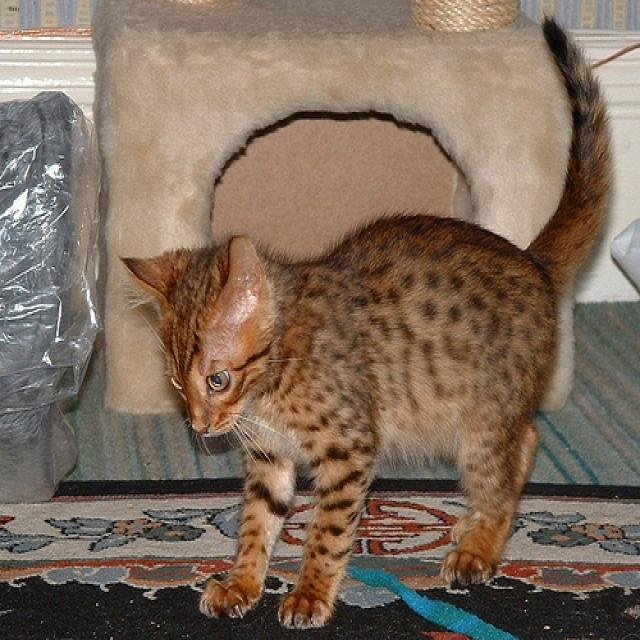Bengal: (119, 244, 287, 442)
